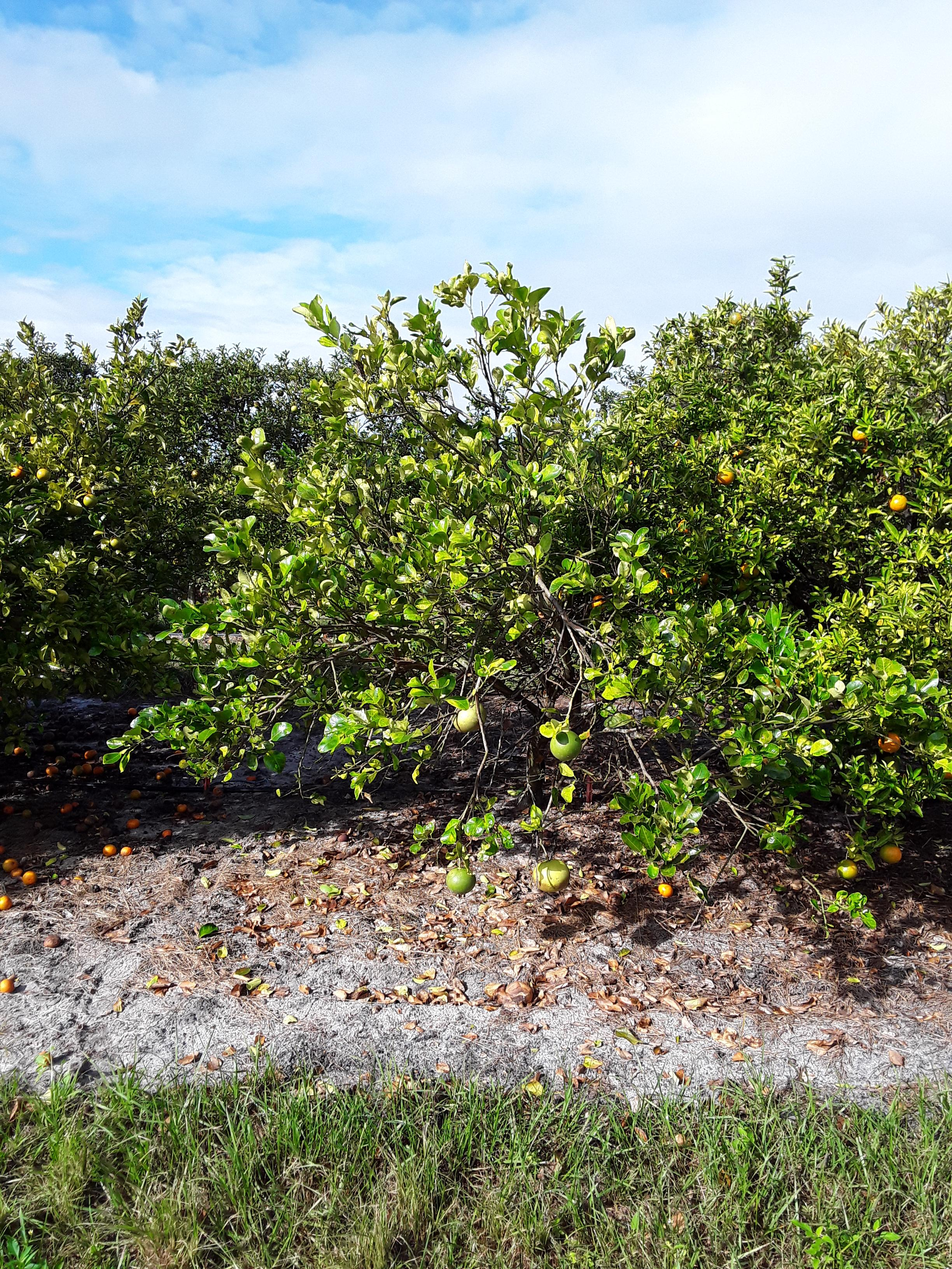fruit_on_ground: (533, 856, 571, 894), (547, 727, 585, 763), (443, 864, 479, 896), (451, 704, 484, 735), (875, 728, 904, 754), (834, 856, 860, 882), (877, 841, 904, 866), (763, 670, 790, 694), (587, 591, 609, 613), (886, 491, 909, 512), (737, 558, 761, 578), (850, 423, 873, 443), (714, 467, 736, 486), (674, 517, 694, 536), (693, 567, 713, 586), (939, 757, 952, 786), (6, 461, 25, 480), (80, 491, 99, 509), (725, 309, 744, 327), (33, 464, 51, 482), (53, 589, 72, 606), (107, 534, 124, 553), (657, 564, 674, 581), (731, 444, 749, 460), (189, 466, 203, 481), (275, 389, 285, 398), (290, 404, 299, 413)
fruit_on_tree: (506, 981, 535, 1006), (653, 879, 677, 900), (34, 1049, 52, 1068), (0, 975, 16, 996), (20, 867, 38, 885), (42, 932, 61, 949), (2, 857, 19, 874), (0, 893, 13, 912), (206, 1056, 221, 1071), (208, 784, 224, 798), (101, 842, 117, 856), (76, 762, 91, 776), (82, 748, 98, 761), (125, 704, 139, 718), (41, 742, 56, 755), (175, 801, 190, 814), (66, 752, 82, 764), (72, 764, 86, 777), (128, 787, 142, 800), (91, 763, 105, 776), (126, 816, 140, 829), (44, 764, 59, 776), (9, 867, 24, 879), (84, 814, 99, 826), (98, 827, 113, 839), (3, 802, 16, 815), (159, 766, 173, 778), (120, 844, 134, 856), (243, 772, 258, 783), (155, 768, 168, 780), (11, 744, 24, 756), (60, 802, 74, 813), (192, 811, 206, 822), (66, 800, 79, 811), (74, 822, 88, 832), (336, 833, 350, 843), (21, 807, 33, 818), (161, 827, 173, 838), (24, 767, 36, 778), (53, 755, 67, 764)
